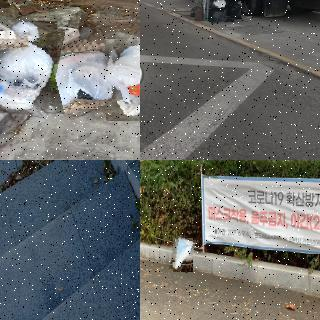Garbage: (0, 18, 61, 115), (44, 48, 120, 113), (101, 35, 140, 124), (171, 237, 195, 273), (208, 7, 235, 23), (224, 1, 242, 20), (211, 0, 225, 8)
